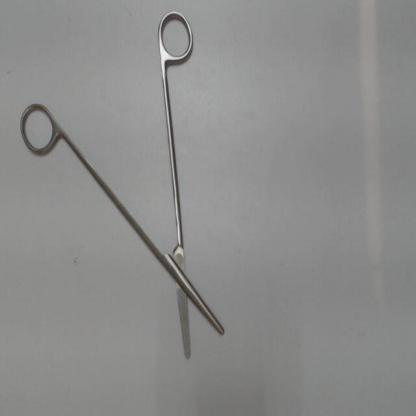9 Metzenbaum Scissors: (16, 6, 229, 364)
